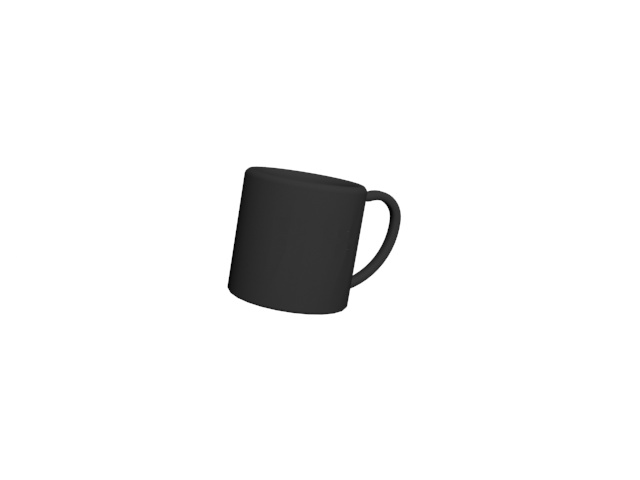mug: (225, 161, 408, 320)
